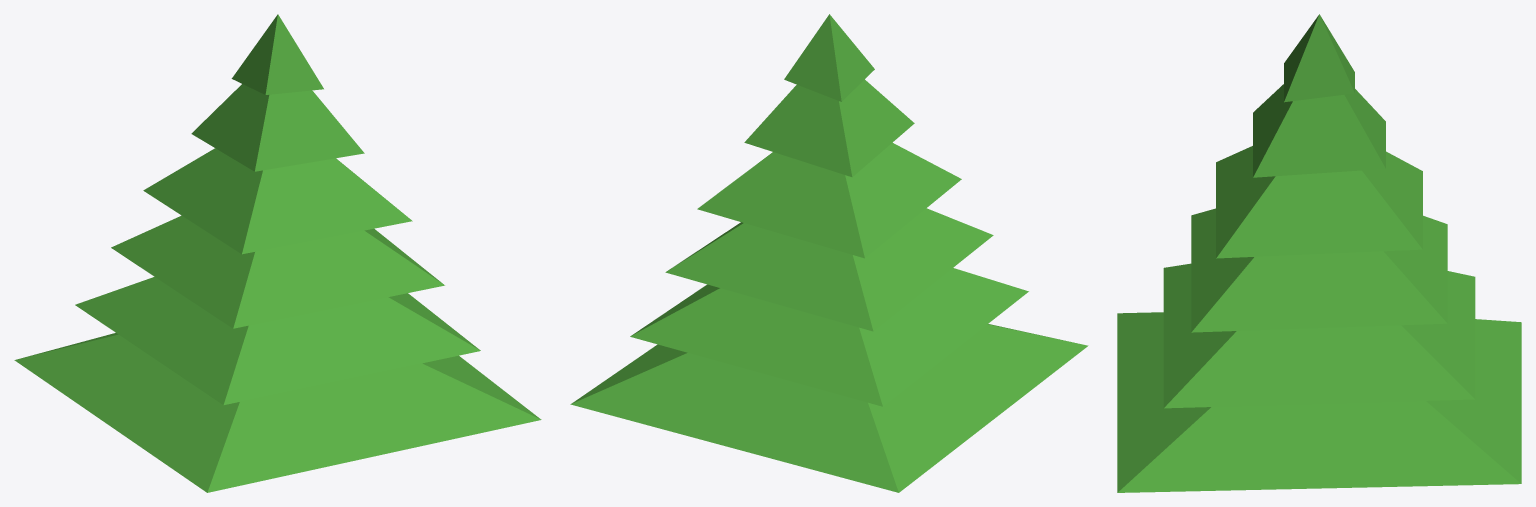
File: Pine 1.fbx
3 views of the same model, side by side, from view 1: azimuth 30°, elevation 25°; view 2: azimuth 150°, elevation 25°; view 3: azimuth 270°, elevation 25° (orthographic). The views are drawn at different scales.
Parts seen in each view (by area): view 1: Cube; view 2: Cube; view 3: Cube.
Boxes of the visible parts, bbox=[...] form: Cube: bbox=[14, 14, 541, 492]; Cube: bbox=[570, 14, 1088, 492]; Cube: bbox=[1117, 14, 1521, 492].
Size of the model in its own units: 11.38 by 11.38 by 14.2.
